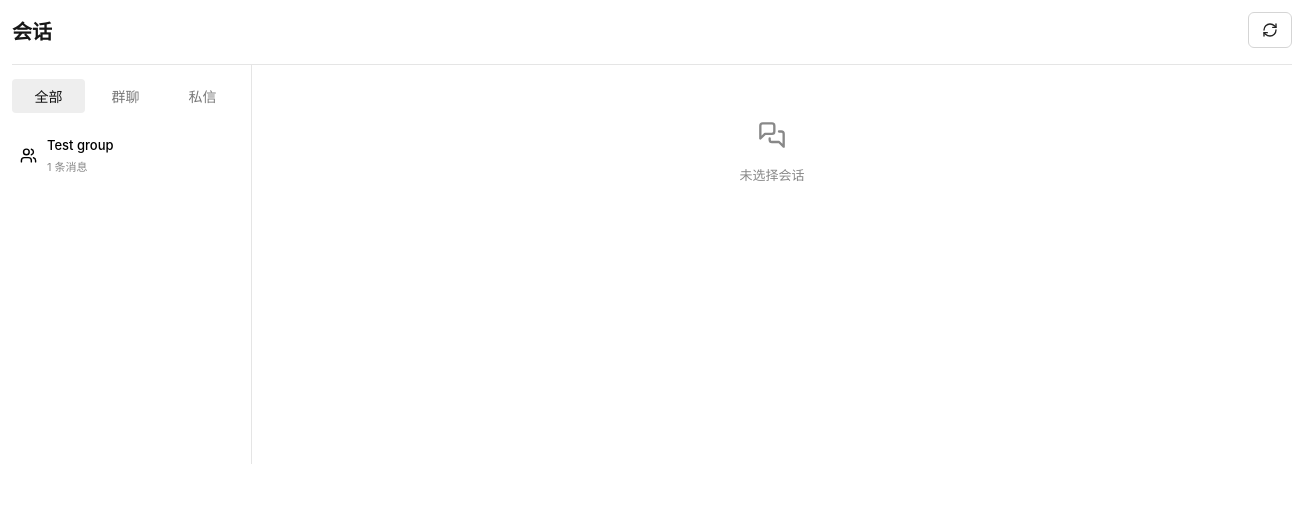
Test case: keeps provider reply confirmation separate from receive ACK and surfaces rejected policy changes
What coordinates should you click on to do the following:
click the text "Test group"
I would click on:
 (80, 145)
Its box is [47,137,114,153].
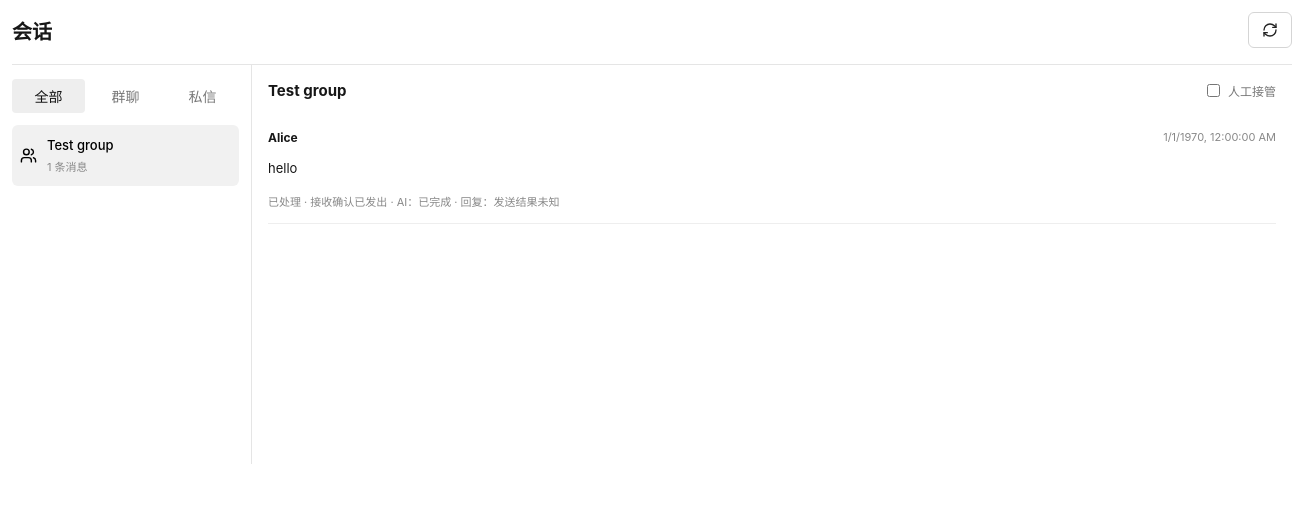
Check: the text "已处理 · 接收确认已发出 · AI：已完成 · 回复：发送结果未知" is shown, box [268,195,560,209]
What coordinates should you click on to do the following:
click the checkbox labelled "人工接管"
I would click on:
 (1214, 90)
Its box is [1207,84,1220,97].
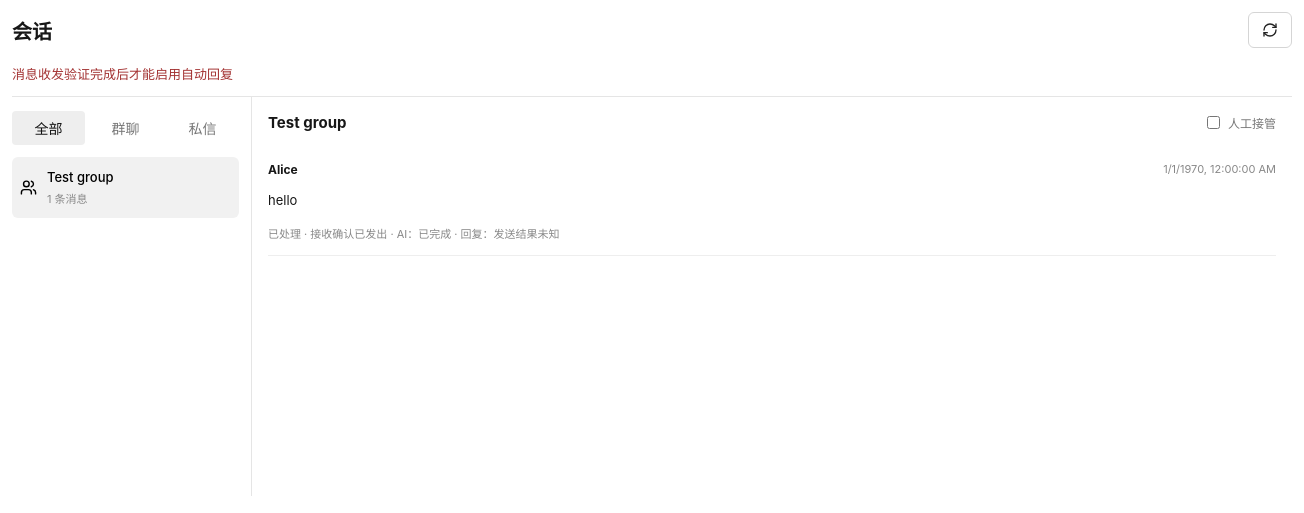
Check: the message reads "消息收发验证完成后才能启用自动回复", box [12,66,233,82]
